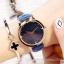watch: (17, 16, 48, 52)
